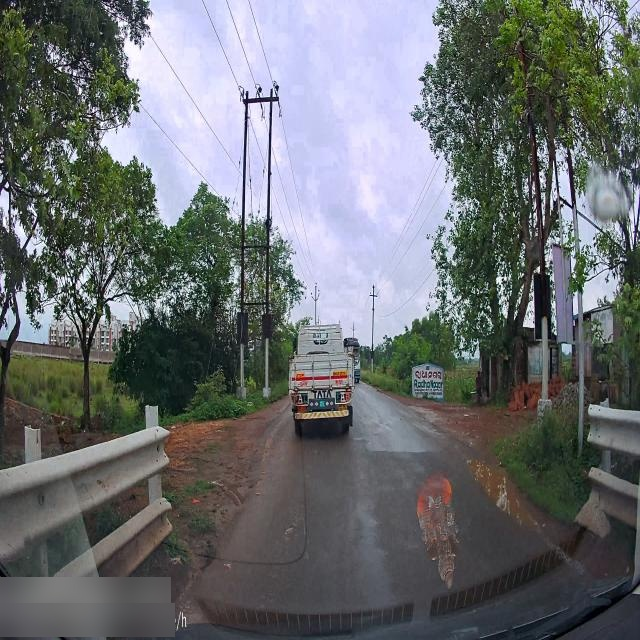pothole: (469, 458, 532, 526)
